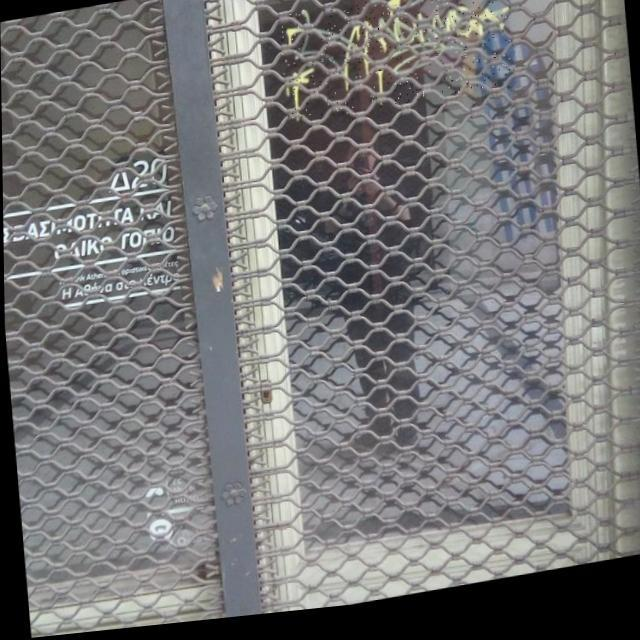-: (278, 0, 513, 130)
